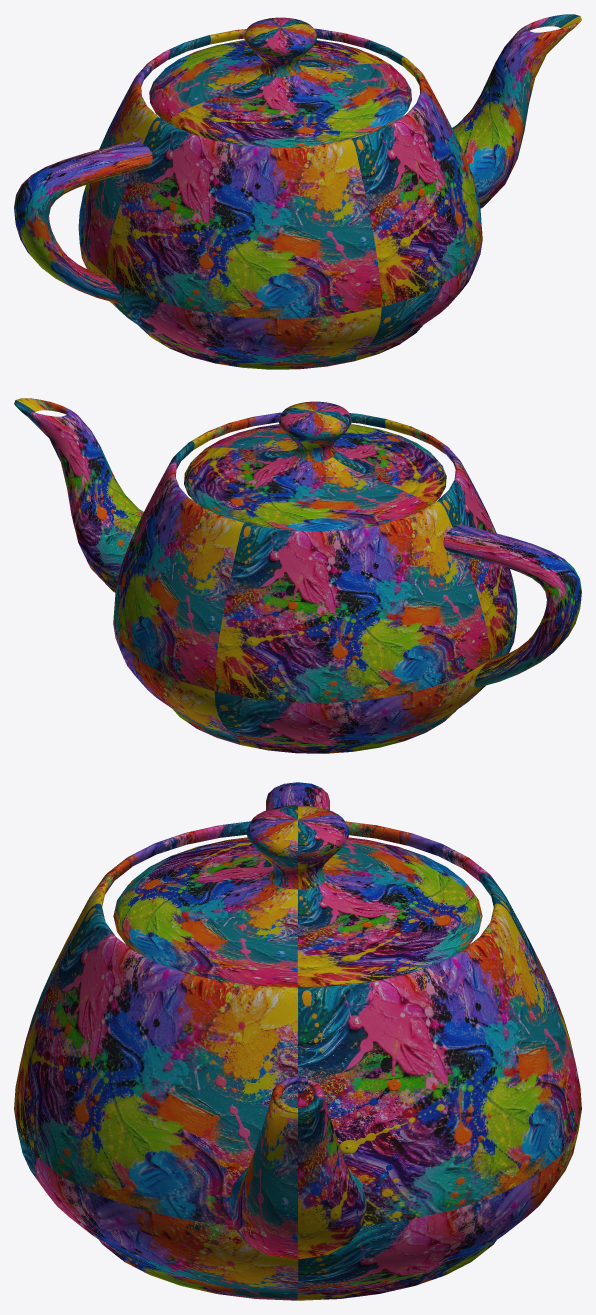
Rendered from teapot.glb.
The picture shows the model from 3 angles, top to bottom: view 1: azimuth 30°, elevation 25°; view 2: azimuth 150°, elevation 25°; view 3: azimuth 270°, elevation 25°; orthographic projection. The views are drawn at different scales.
Visible parts, largest first — view 1: Teapot001; view 2: Teapot001; view 3: Teapot001.
Part boxes in pixels (bbox=[...]): Teapot001: bbox=[14, 14, 581, 369]; Teapot001: bbox=[14, 398, 581, 753]; Teapot001: bbox=[14, 782, 581, 1300].
Size of the model in its own units: 0.0965 by 0.0473 by 0.06.
Materials: 1 (1 with a texture image).
